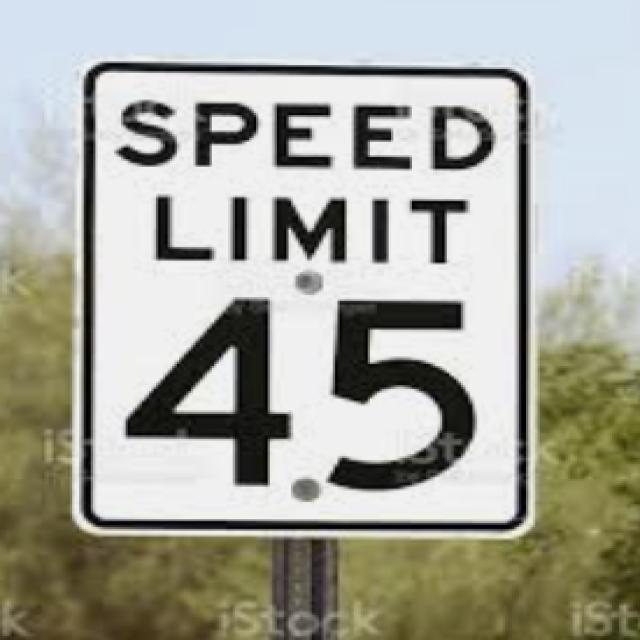speedLimit45: (85, 78, 519, 526)
